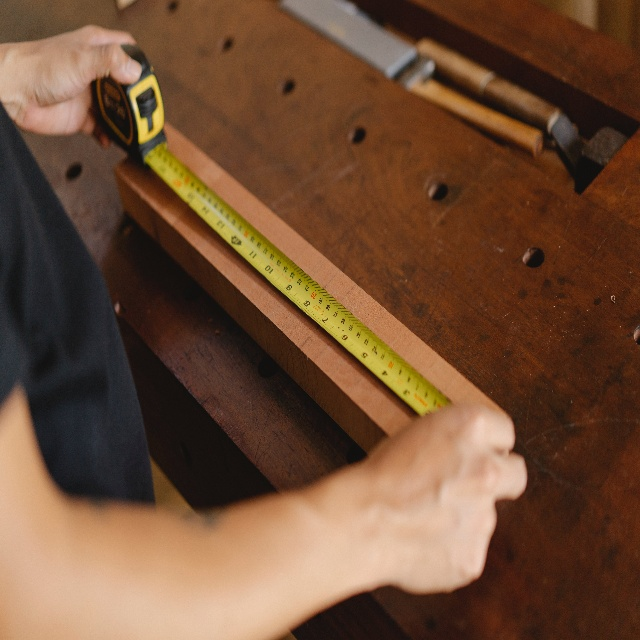Sin_guantes: (368, 395, 527, 596), (14, 24, 143, 154)
